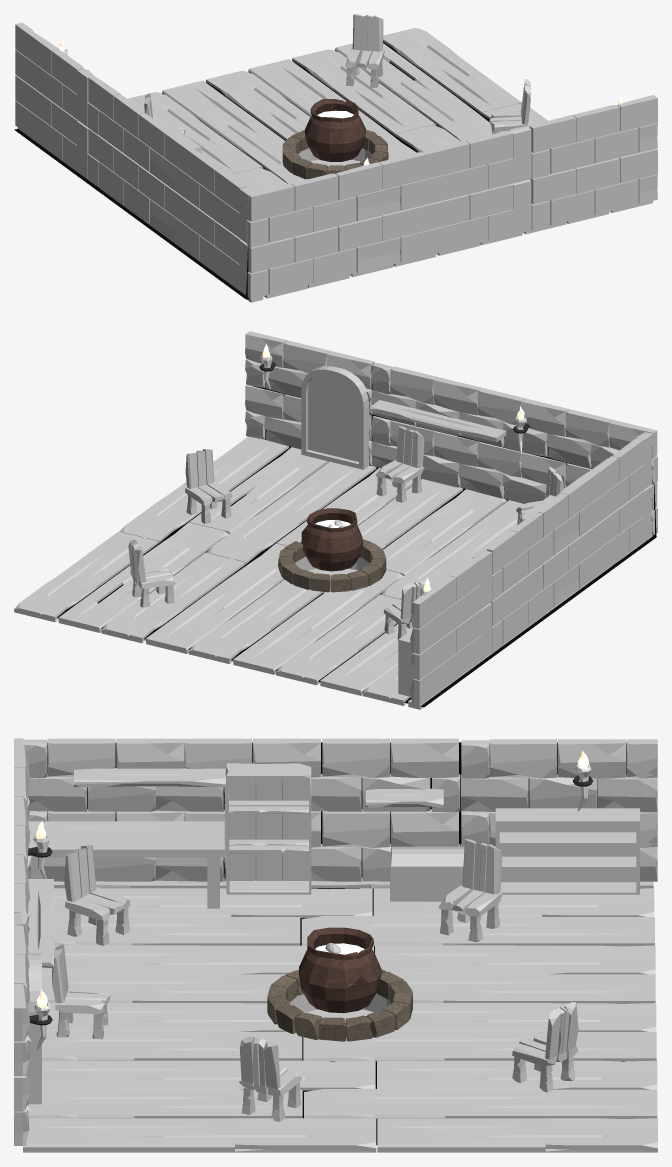
Rendered from map.gltf.
The picture shows the model from 3 angles, top to bottom: view 1: azimuth 30°, elevation 25°; view 2: azimuth 150°, elevation 25°; view 3: azimuth 270°, elevation 25°; orthographic projection. The views are drawn at different scales.
Visible parts, largest first — view 1: floor, Plane.023, Plane.004, Plane.012, Plane.005, Cylinder, Plane.013, Circle.013, Plane, Plane.014, hole; view 2: floor, Plane.023, Plane.004, Plane.005, Plane.012, Door, Plane, Cylinder, Circle.013, Plane.014, Plane.007, Plane.010 (+4 smaller); view 3: floor, Plane.004, Plane.005, Cube.001, Cube, Plane.006, Cylinder, Circle.013, Plane.011, Plane.001, Plane.009, Plane.014 (+10 smaller).
Part boxes in pixels (bbox=[...]): floor: bbox=[17, 28, 652, 302]; Plane.023: bbox=[245, 126, 531, 299]; Plane.004: bbox=[88, 76, 254, 293]; Plane.012: bbox=[529, 95, 657, 230]; Plane.005: bbox=[15, 22, 93, 178]; Cylinder: bbox=[304, 99, 366, 161]; Plane.013: bbox=[345, 14, 384, 87]; Circle.013: bbox=[282, 130, 388, 179]; Plane: bbox=[14, 42, 489, 299]; Plane.014: bbox=[489, 79, 530, 134]; hole: bbox=[298, 148, 371, 166]; floor: bbox=[14, 436, 652, 709]; Plane.023: bbox=[371, 363, 657, 535]; Plane.004: bbox=[487, 432, 654, 652]; Plane.005: bbox=[410, 550, 491, 705]; Plane.012: bbox=[245, 331, 374, 465]; Door: bbox=[301, 365, 369, 469]; Plane: bbox=[57, 345, 656, 707]; Cylinder: bbox=[301, 508, 363, 571]; Circle.013: bbox=[278, 539, 386, 592]; Plane.014: bbox=[185, 449, 232, 523]; Plane.007: bbox=[376, 426, 424, 502]; Plane.010: bbox=[370, 400, 506, 442]; floor: bbox=[23, 878, 657, 1152]; Plane.004: bbox=[23, 738, 459, 881]; Plane.005: bbox=[460, 739, 657, 881]; Cube.001: bbox=[495, 808, 639, 894]; Cube: bbox=[224, 763, 311, 894]; Plane.006: bbox=[28, 821, 224, 908]; Cylinder: bbox=[299, 927, 382, 1013]; Circle.013: bbox=[267, 969, 412, 1041]; Plane.011: bbox=[438, 839, 502, 942]; Plane.001: bbox=[390, 846, 464, 901]; Plane.009: bbox=[64, 845, 130, 945]; Plane.014: bbox=[239, 1036, 302, 1121].
Size of the model in its own units: 15.16 by 4.26 by 15.2.
7 materials, 2 textured.
